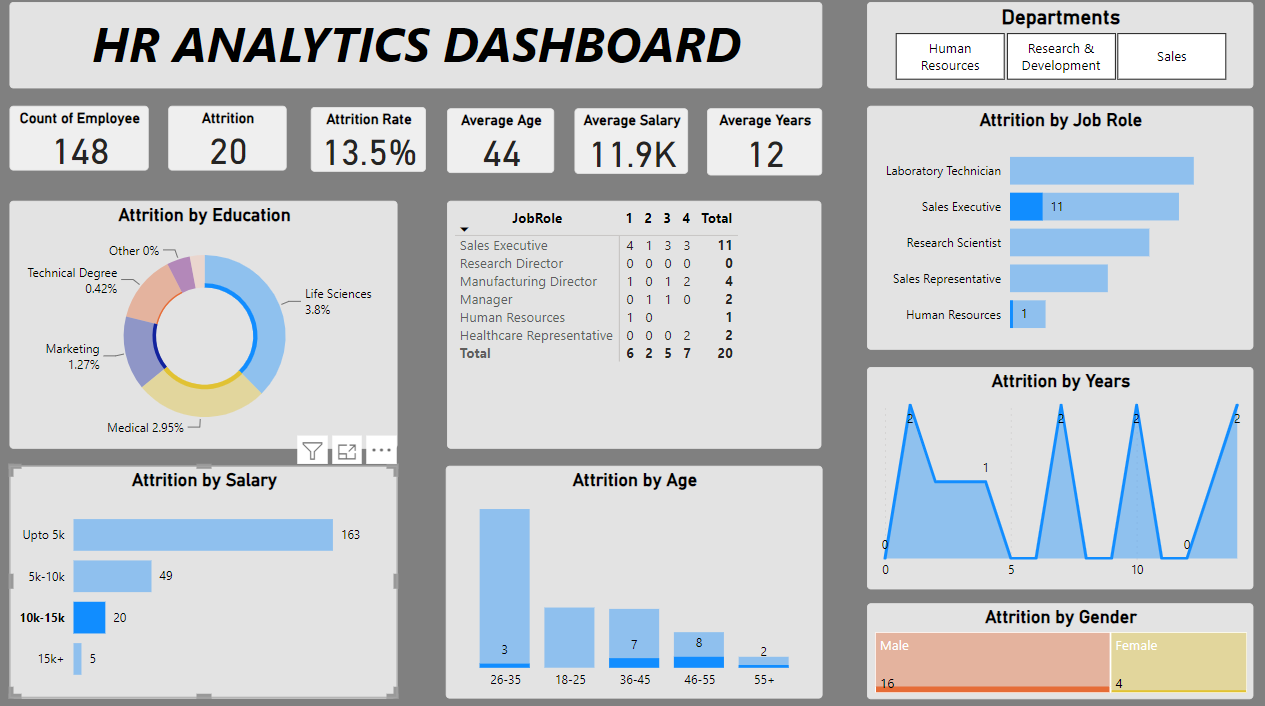

The dashboard page shown, as its layout file describes it:
{"tool":"powerbi","page":{"name":"Page 1","canvas":[1280,720],"ordinal":0},"visuals":[{"type":"card","title":"Count of Employee","fields":{"Values":["CountNonNull(HR_Analytics.EmpID)"]},"box":[17,113.8,139.4,64.9],"z":0},{"type":"card","title":"Attrition","fields":{"Values":["Sum(HR_Analytics.AttritionCount)"]},"box":[176.6,113.8,118.1,64.9],"z":1000},{"type":"card","title":"Attrition Rate","fields":{"Values":["HR_Analytics.AttritionRate"]},"box":[319.1,114.9,114.9,64.9],"z":2000},{"type":"card","title":"Average Age ","fields":{"Values":["Avg(HR_Analytics.Age)"]},"box":[455.3,116,107.4,64.9],"z":3000},{"type":"card","title":"Average Salary","fields":{"Values":["Avg(HR_Analytics.MonthlyIncome)"]},"box":[583,116,113.8,66],"z":4000},{"type":"card","title":"Average Years ","fields":{"Values":["Avg(HR_Analytics.YearsAtCompany)"]},"box":[714.9,116,114.9,67],"z":5000},{"type":"donutChart","title":"Attrition by Education","fields":{"Category":["HR_Analytics.EducationField"],"Y":["Sum(HR_Analytics.AttritionCount)"]},"box":[17,208.5,388.3,247.9],"z":6000},{"type":"columnChart","title":"Attrition by Age","fields":{"Category":["HR_Analytics.AgeGroup"],"Y":["Sum(HR_Analytics.AttritionCount)"]},"box":[453.2,473.4,376.6,233],"z":7000},{"type":"pivotTable","fields":{"Rows":["HR_Analytics.JobRole"],"Columns":["HR_Analytics.JobSatisfaction"],"Values":["Sum(HR_Analytics.AttritionCount)"]},"box":[455.3,208.5,374.5,247.9],"z":8000},{"type":"barChart","title":"Attrition by Salary","fields":{"Category":["HR_Analytics.SalarySlab"],"Y":["Sum(HR_Analytics.AttritionCount)"]},"box":[17,473.4,388.3,233],"z":9000},{"type":"barChart","title":"Attrition by Job Role","fields":{"Category":["HR_Analytics.JobRole"],"Y":["Sum(HR_Analytics.AttritionCount)"]},"box":[875.5,113.8,386.2,243.6],"z":10000},{"type":"areaChart","title":"Attrition by Years","fields":{"Category":["HR_Analytics.YearsAtCompany"],"Y":["Sum(HR_Analytics.AttritionCount)"]},"box":[875,375,386.2,222.5],"z":11000},{"type":"treemap","title":"Attrition by Gender","fields":{"Group":["HR_Analytics.Gender"],"Values":["Sum(HR_Analytics.AttritionCount)"]},"box":[875.5,610.6,386.2,95.7],"z":12000},{"type":"slicer","title":"Departments","fields":{"Values":["HR_Analytics.Department"]},"box":[875.5,9.6,386.2,86.2],"z":13000},{"type":"textbox","box":[17,9.6,812.8,86.2],"z":14000}]}

Visuals, with their boxes in screenshot pixels (x1, y1, x2, y2), scaled from the page's 1280x720 canvas onto the 1265x706 screenshot:
"Count of Employee" card: 17,112,155,175
"Attrition" card: 175,112,291,175
"Attrition Rate" card: 315,113,429,176
"Average Age " card: 450,114,556,177
"Average Salary" card: 576,114,689,178
"Average Years " card: 707,114,820,179
"Attrition by Education" donutChart: 17,204,401,448
"Attrition by Age" columnChart: 448,464,820,693
pivotTable - HR_Analytics.JobRole x HR_Analytics.JobSatisfaction: 450,204,820,448
"Attrition by Salary" barChart: 17,464,401,693
"Attrition by Job Role" barChart: 865,112,1247,350
"Attrition by Years" areaChart: 865,368,1246,586
"Attrition by Gender" treemap: 865,599,1247,693
"Departments" slicer: 865,9,1247,94
textbox: 17,9,820,94
